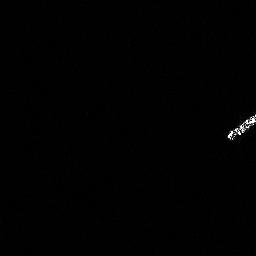ship: (226, 111, 256, 142)
